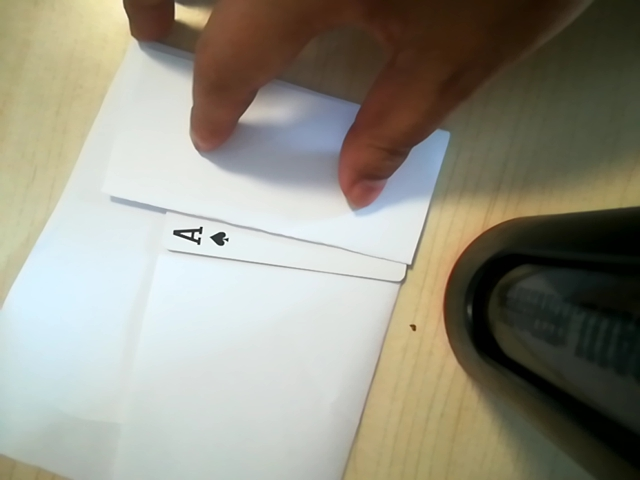ht a: (142, 201, 244, 261)
